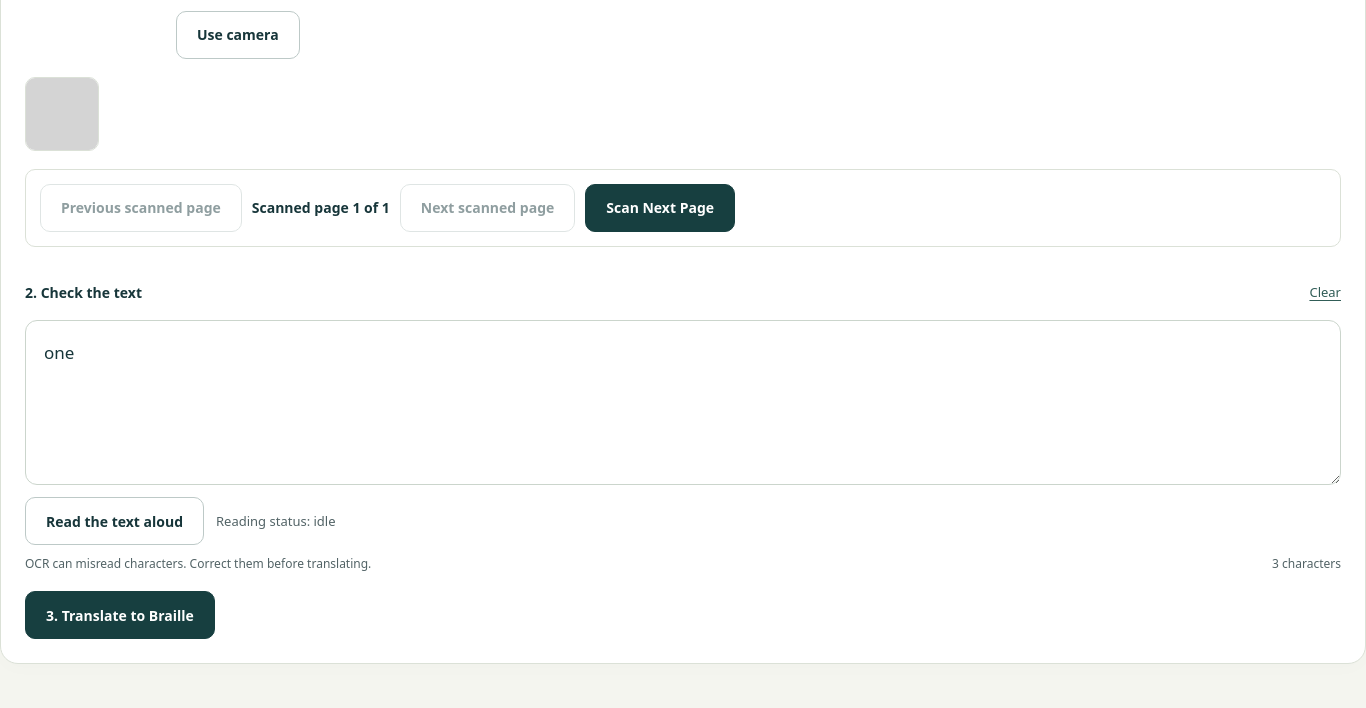
Test: CameraPanel continuous book scanning › preserves each scanned page Braille translation
The width and height of the screenshot is (1366, 708).
Earlier steps of the test are not shown.
Later steps or results of the test are not shown.
(page scrolled)
Click the button "3. Translate to Braille": [120, 616] box x1=25 y1=592 x2=215 y2=640
(page scrolled)
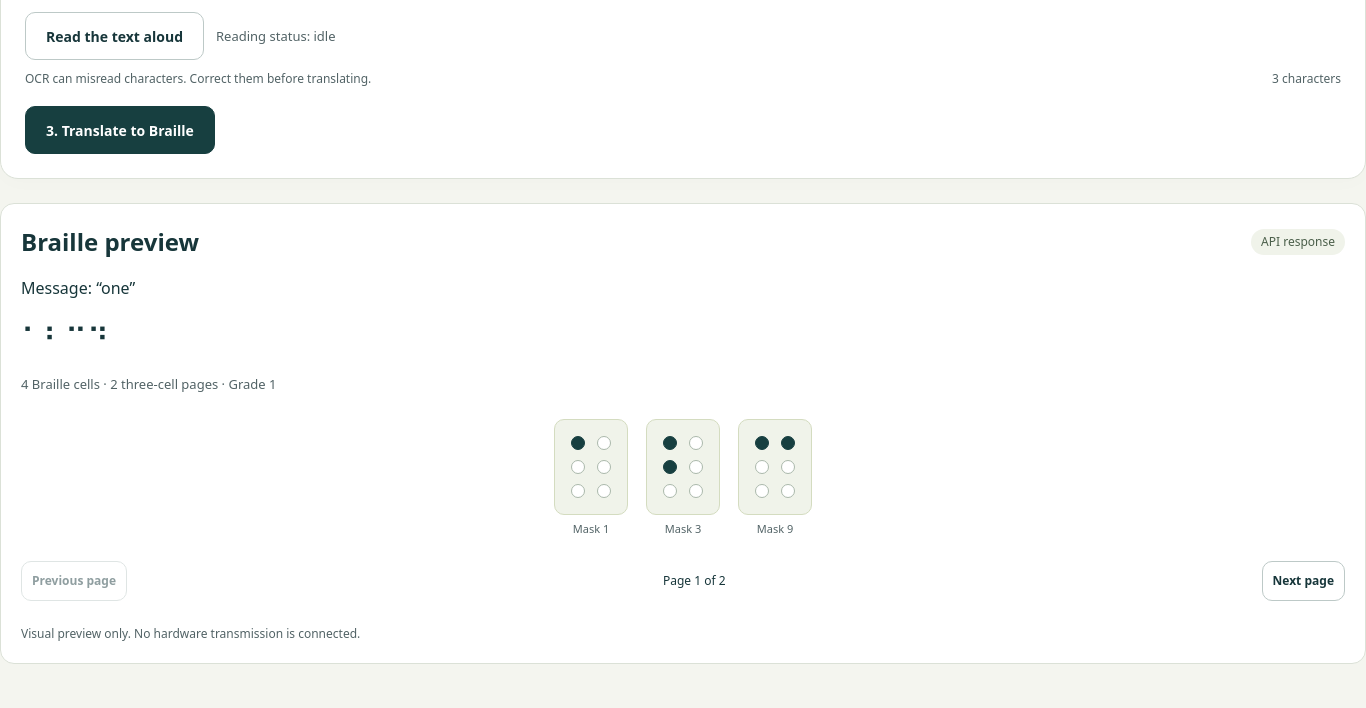
Expected: the element named "Braille translation for scanned page 1" is shown
